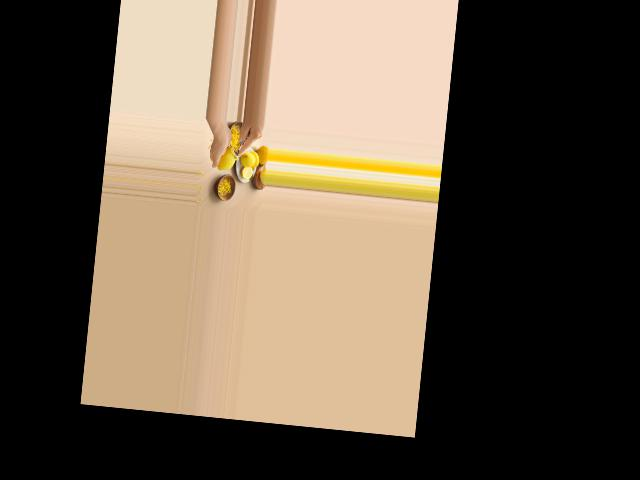lemon: (213, 144, 237, 171)
